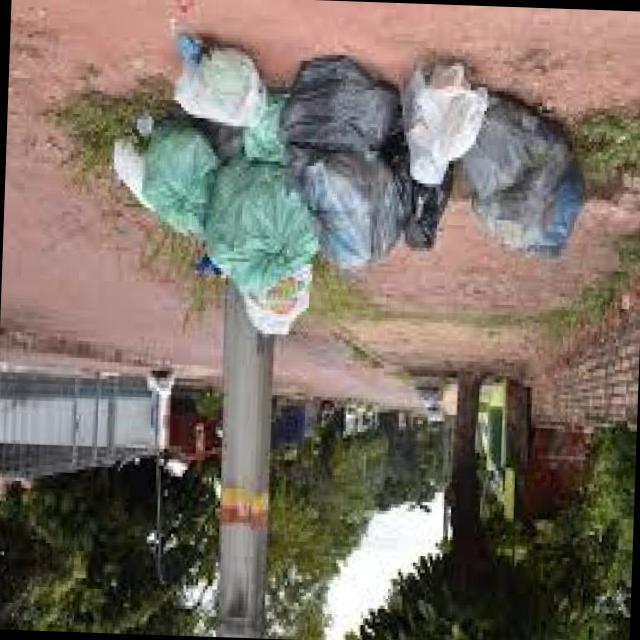high trash: (113, 36, 583, 334)
